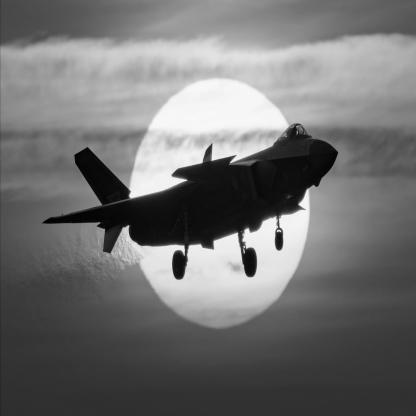J20: (43, 124, 340, 281)
